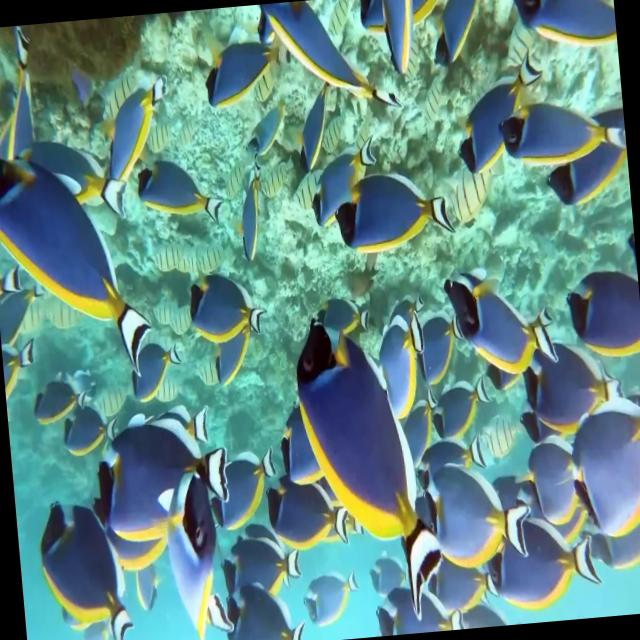fish: (287, 306, 455, 620), (0, 141, 164, 379), (86, 398, 232, 554), (267, 0, 399, 124), (34, 492, 134, 640), (442, 259, 558, 376), (421, 448, 531, 570), (145, 467, 220, 640), (484, 509, 604, 611), (331, 156, 450, 255), (449, 54, 540, 175), (493, 92, 627, 169), (566, 400, 640, 537), (100, 73, 178, 196), (264, 460, 354, 554), (130, 150, 222, 230), (306, 135, 379, 232), (186, 260, 264, 343), (501, 0, 617, 54), (201, 48, 300, 104), (113, 338, 190, 410), (288, 87, 342, 178), (24, 357, 92, 429), (228, 164, 269, 276), (422, 0, 483, 72), (300, 570, 360, 632)
